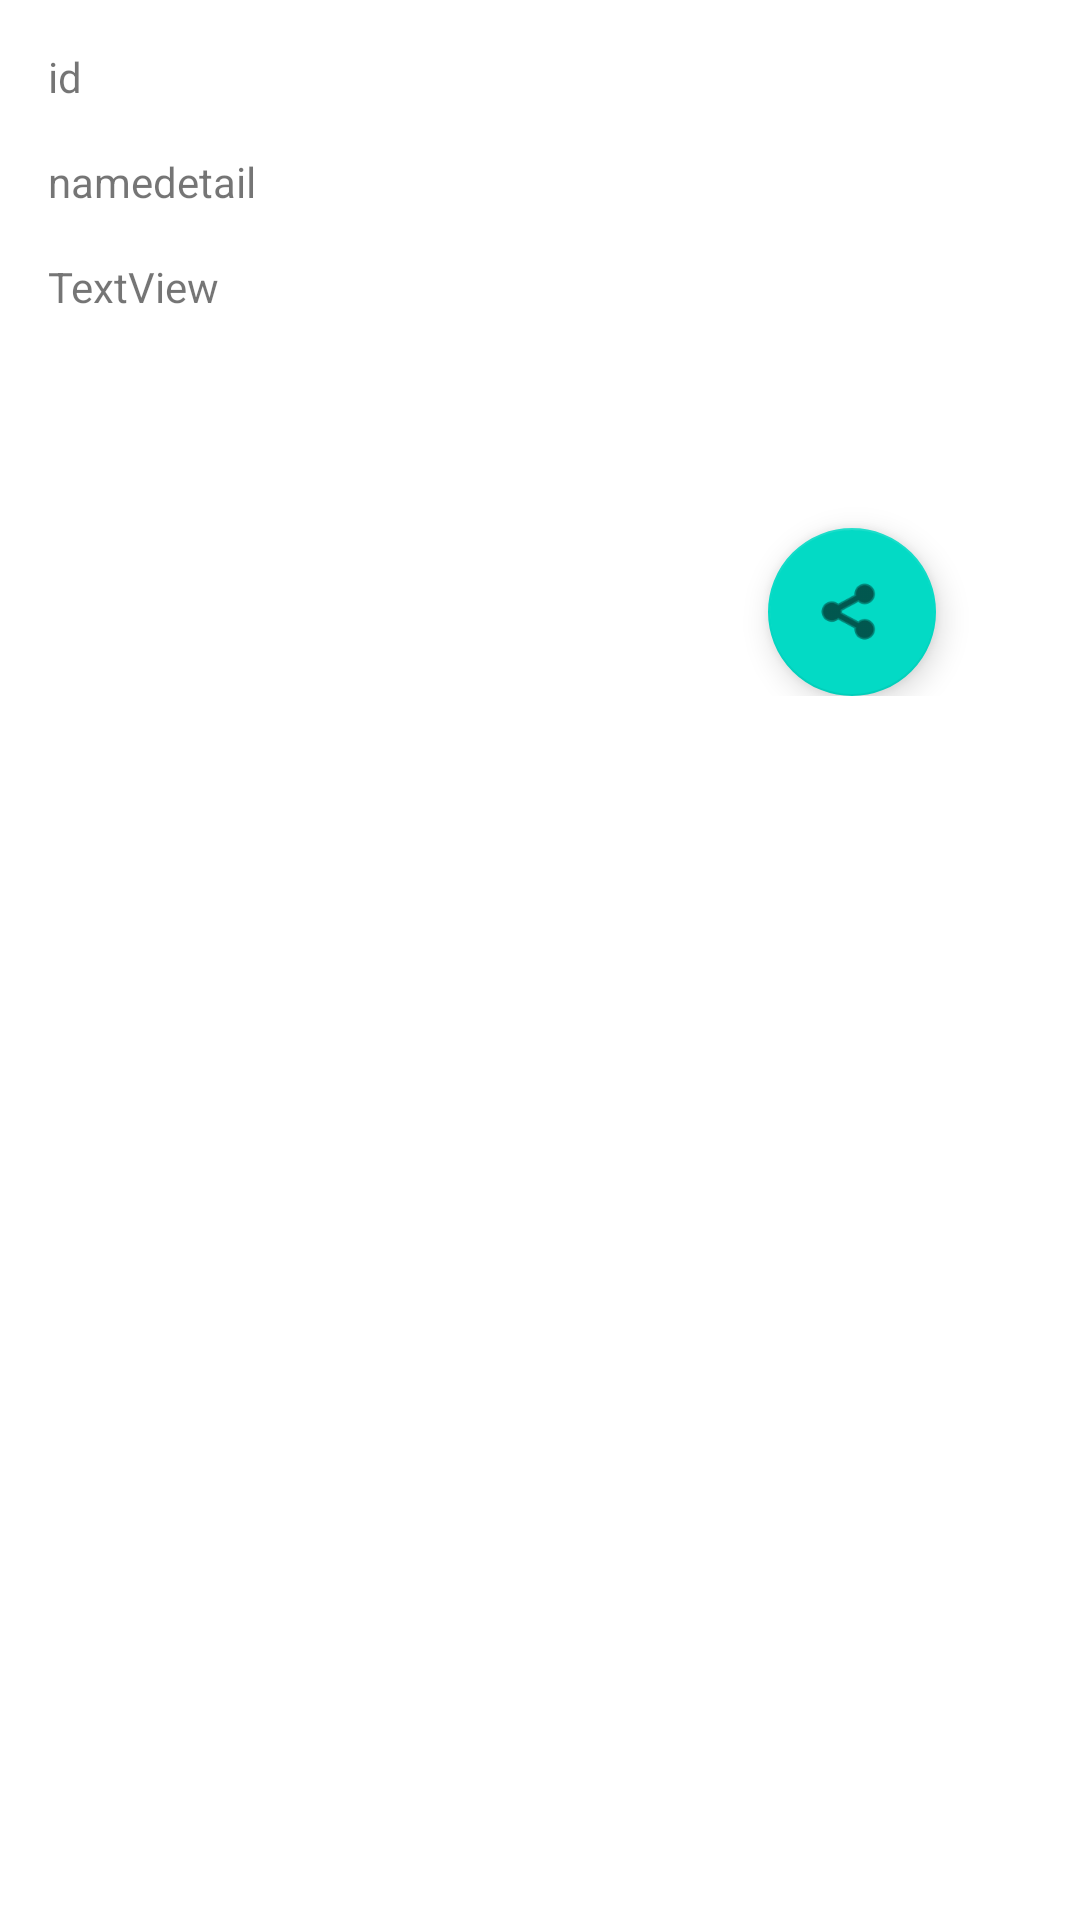

Icon click points for this 1080 × 1920 phone screenshot, format (x,y):
share: (852,612)
